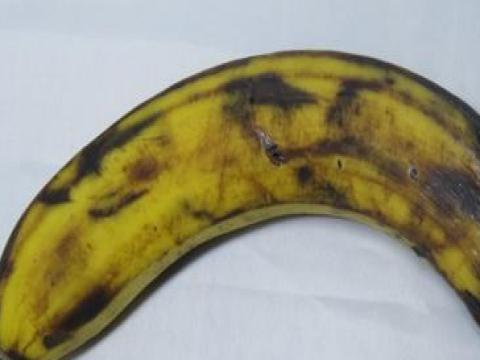overripe: (10, 35, 479, 359)
